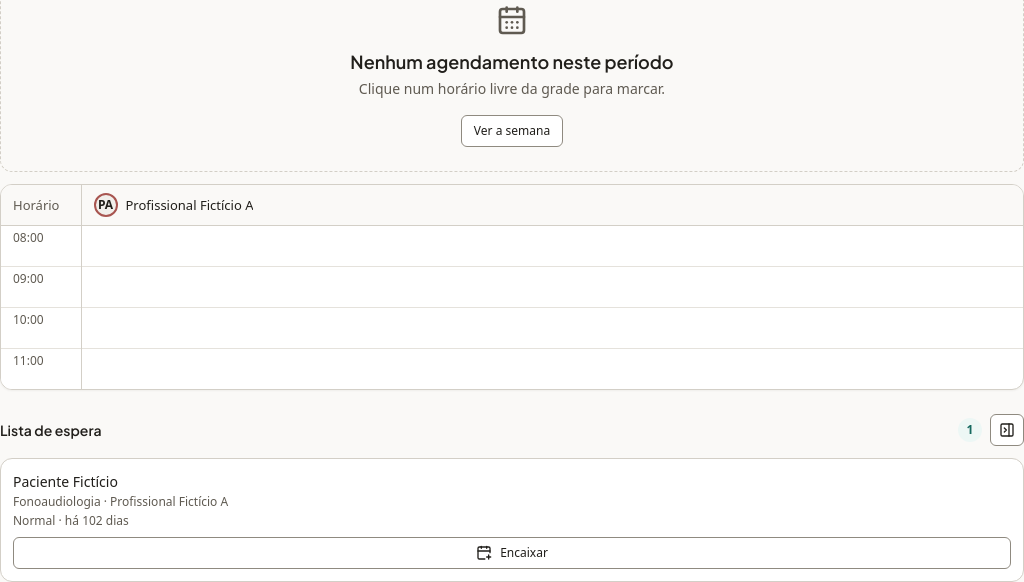
Test: Agenda — o painel da fila recolhe › deve nascer aberto e recolher para o trilho
The width and height of the screenshot is (1024, 582).
(page scrolled)
Click the button named "Recolher a lista de espera".
click(1007, 430)  # box x1=990 y1=414 x2=1023 y2=446
(page scrolled)
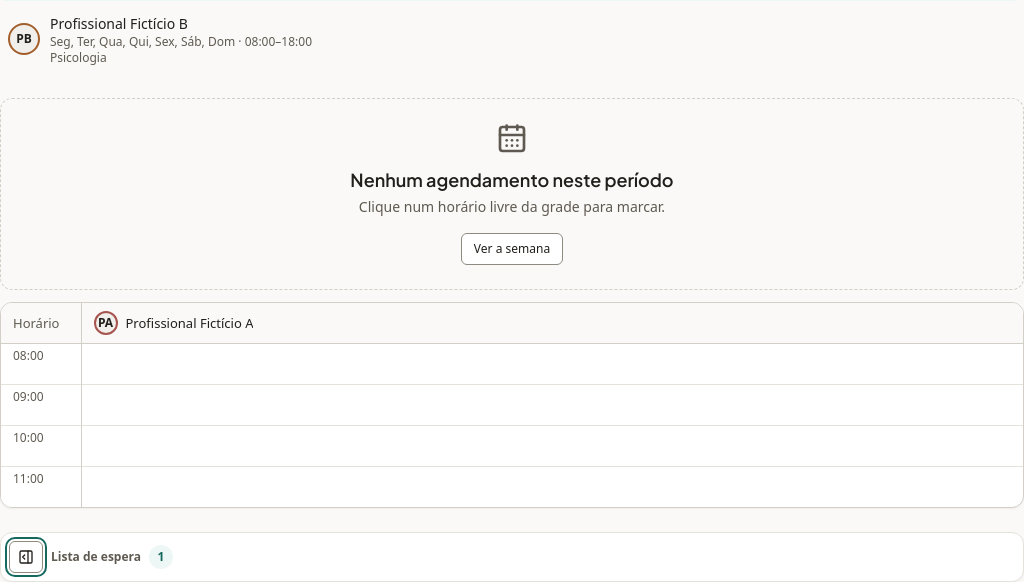
Now the button named "Expandir a lista de espera" is collapsed, box x1=9 y1=541 x2=43 y2=573
